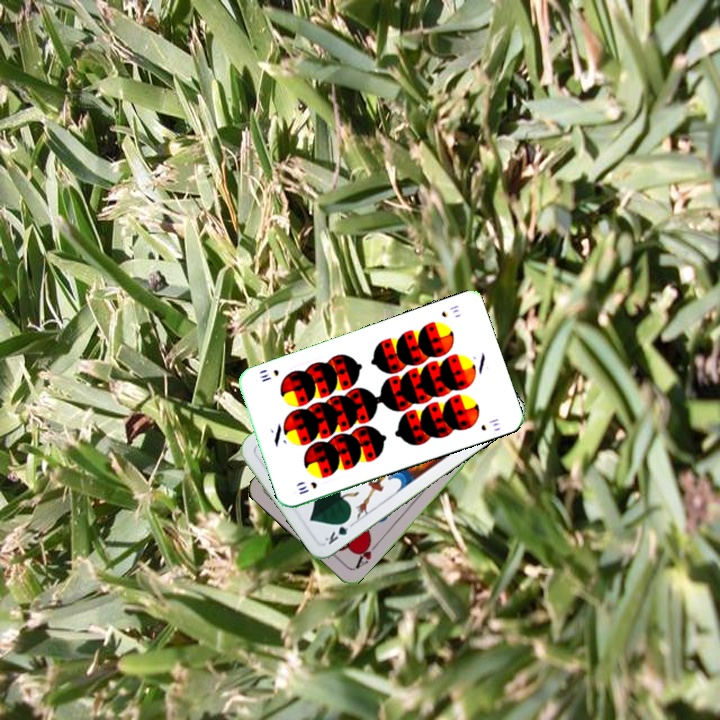GK: (321, 514, 357, 547)
HA: (349, 536, 381, 572)
S10: (294, 478, 320, 497), (437, 301, 462, 320)
